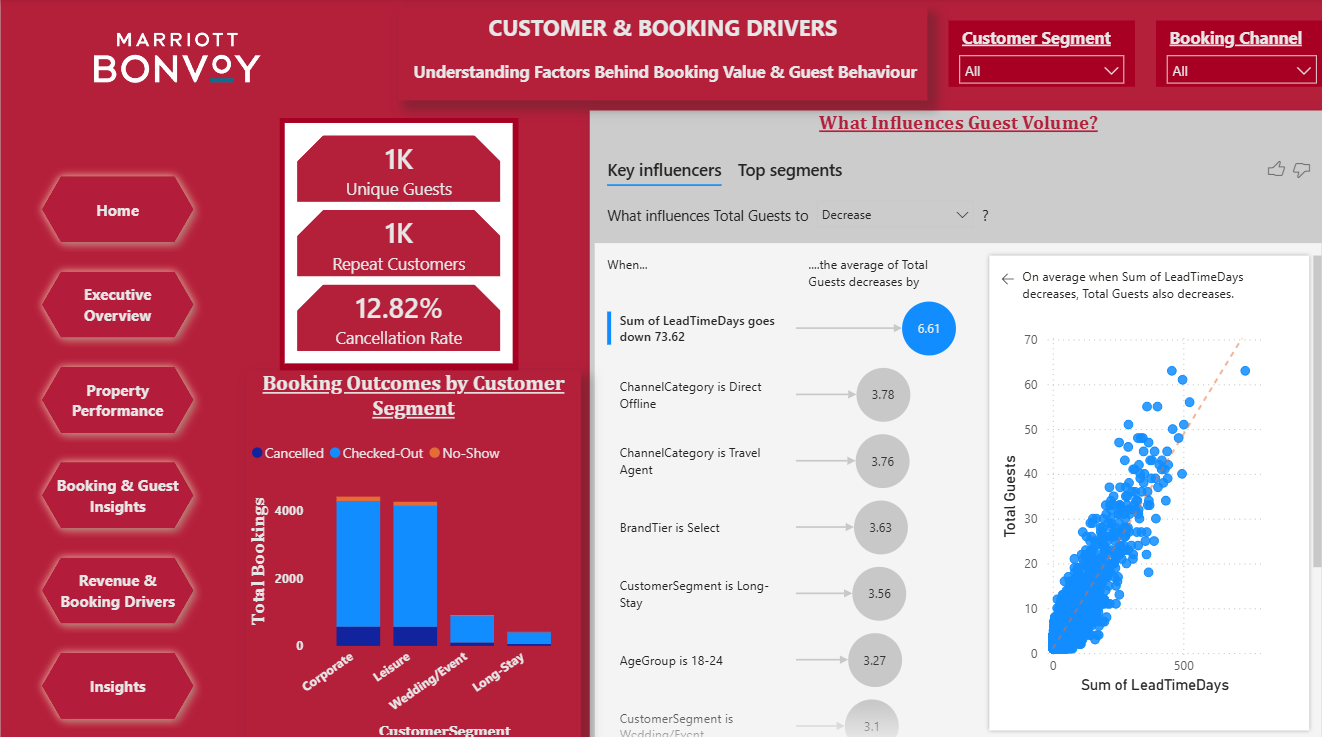

Layout of this report page (visuals, bound fields, positions):
{"tool":"powerbi","page":{"name":"Customer & Booking Drivers","canvas":[1280,720],"ordinal":5},"visuals":[{"type":"keyDriversVisual","title":"What Influences Guest Volume?","fields":{"ExplainBy":["Dim_Customers.CustomerSegment","Dim_Customers.BonvoyTier","Dim_Customers.AgeGroup","Dim_BookingChannels.ChannelCategory","Dim_Customers.Gender","Dim_RoomTypes.Category","Dim_Properties.BrandTier","Sum(Fact_Bookings.LeadTimeDays)"],"Target":["_Measures.Total Guests"]},"box":[568.6,108.8,711.7,611.4],"z":0},{"type":"textbox","box":[383.6,8.4,510.5,90.6],"z":1000},{"type":"cardVisual","fields":{"Data":["_Measures.Unique Guests","_Measures.Repeat Customers","_Measures.Cancellation Rate"]},"box":[268.8,116.2,230,243.8],"z":2000},{"type":"columnChart","title":"Booking Outcomes by Customer Segment","fields":{"Category":["Dim_Customers.CustomerSegment"],"Y":["_Measures.Total Bookings"],"Series":["Fact_Bookings.BookingStatus"]},"box":[236.5,359.5,323.3,360.7],"z":3000},{"type":"pageNavigator","box":[30.2,162.9,165.3,544.1],"z":4000},{"type":"slicer","fields":{"Values":["Dim_Customers.CustomerSegment"]},"box":[914.5,21.7,179.8,63.9],"z":5000},{"type":"slicer","fields":{"Values":["Dim_BookingChannels.ChannelCategory"]},"box":[1114.8,21.7,165.3,63.9],"z":6000},{"type":"image","box":[33.8,0,272.7,115.8],"z":7000}]}

Visuals, with their boxes in screenshot pixels (x1, y1, x2, y2), scaled from the page's 1280x720 canvas onto the 1322x737 screenshot:
"What Influences Guest Volume?" keyDriversVisual: rect(587, 111, 1321, 736)
textbox: rect(396, 9, 923, 101)
cardVisual - _Measures.Unique Guests x _Measures.Repeat Customers: rect(278, 119, 515, 368)
"Booking Outcomes by Customer Segment" columnChart: rect(244, 368, 578, 736)
pageNavigator: rect(31, 167, 202, 724)
slicer - Dim_Customers.CustomerSegment: rect(945, 22, 1130, 88)
slicer - Dim_BookingChannels.ChannelCategory: rect(1151, 22, 1321, 88)
image: rect(35, 0, 317, 119)
